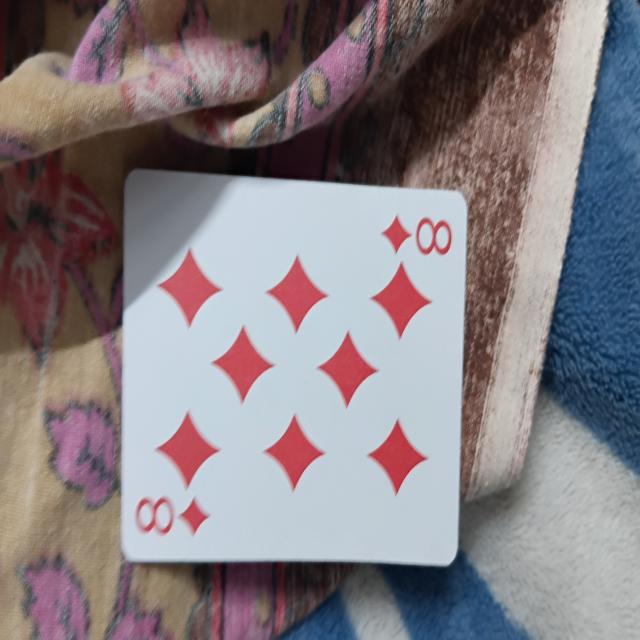8D: (116, 177, 475, 567)
